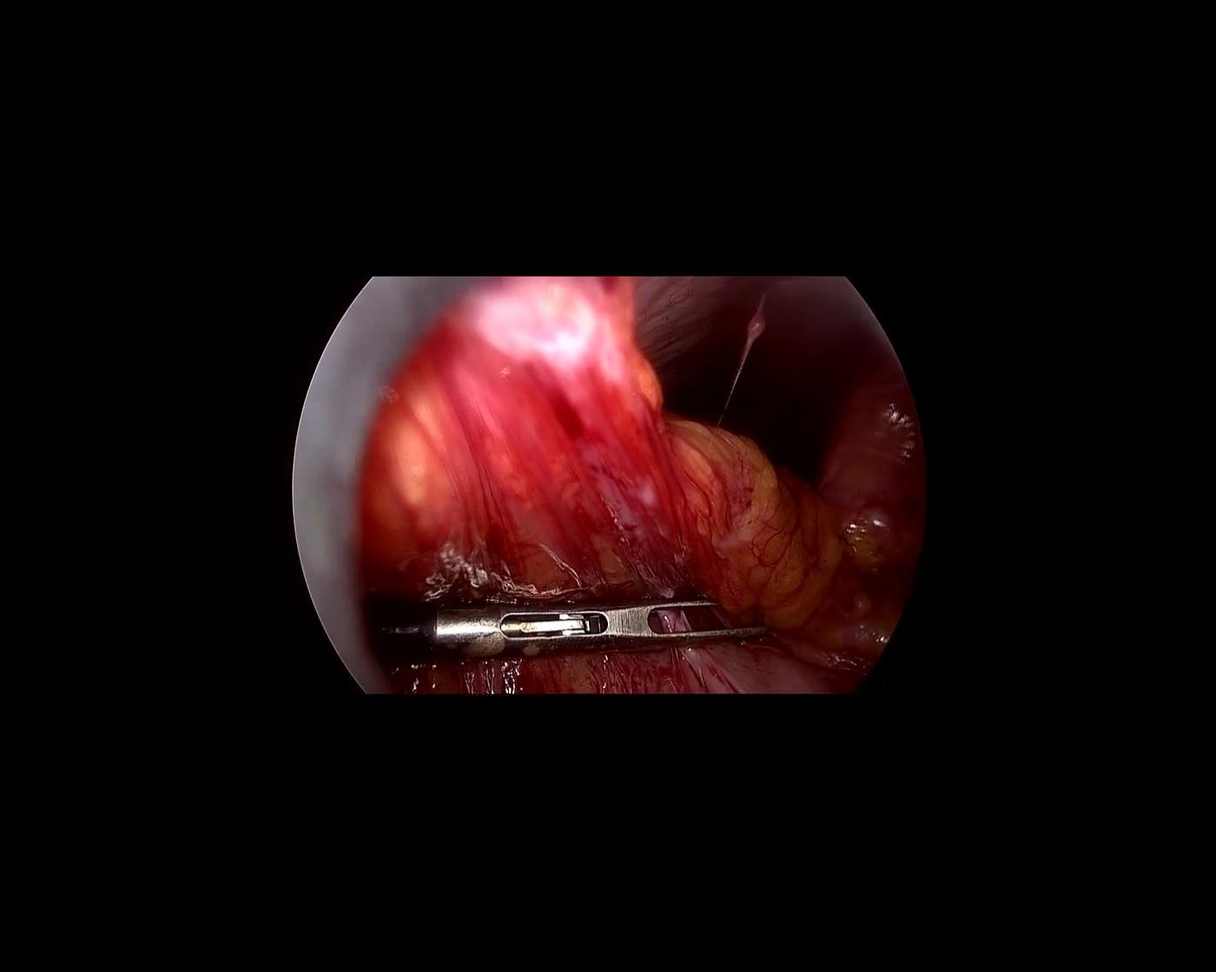Forceps: (360, 571, 768, 668)
